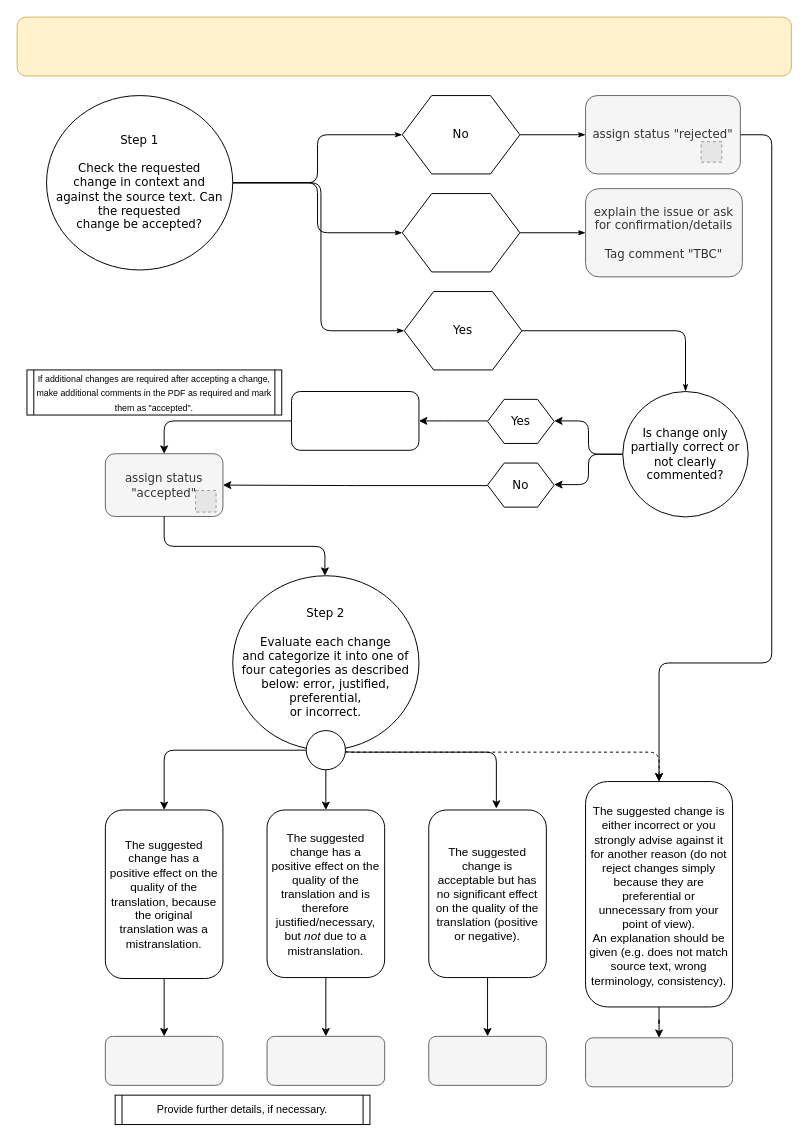
The diagram is 809 pixels wide and 1142 high, and some of its shapes have lost their labels. Grey dashed boxes stand in for pictures. Each missing label, with the centre of its shape:
In-Country Review Evaluation: (403,46)
OR: (325,750)
reply by specifying the exact/correct change.: (355,420)
Tag comment as #error: (163,1060)
Tag comment as #incorrect: (659,1062)
Tag comment as #justified: (325,1060)
Tag comment as #preferential: (487,1060)
unclear: (460,232)
